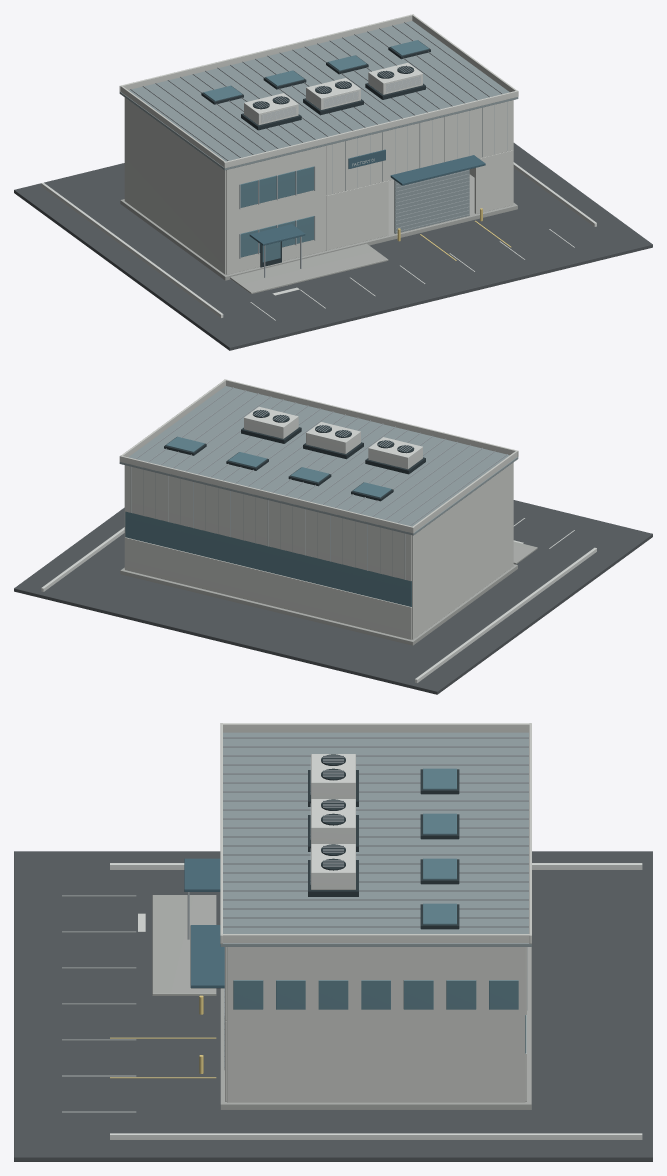
Rendered from factory-building.glb.
The picture shows the model from 3 angles, top to bottom: view 1: azimuth 30°, elevation 25°; view 2: azimuth 150°, elevation 25°; view 3: azimuth 270°, elevation 25°; orthographic projection. The views are drawn at different scales.
Visible parts, largest first — view 1: Site_Asphalt, Roof_Roof_metal, Envelope_Ivory_panels, FixedWalls_Ivory_panels, Roof_Ivory_panels, Site_Concrete, Roof_Brushed_aluminium, Envelope_Roof_metal, Roof_Porcelain, Envelope_Blue_glazing, Roof_Graphite, Envelope_Brushed_aluminium (+3 smaller); view 2: Site_Asphalt, FixedWalls_Ivory_panels, Roof_Roof_metal, FixedWalls_Blue_glazing, Roof_Ivory_panels, Roof_Brushed_aluminium, Roof_Porcelain, Site_Concrete, Roof_Graphite, Site_Porcelain, Roof_Blue_glazing, FixedWalls_Brushed_aluminium; view 3: Site_Asphalt, Roof_Roof_metal, Envelope_Ivory_panels, Roof_Brushed_aluminium, Site_Concrete, Roof_Ivory_panels, Envelope_Blue_glazing, Site_Porcelain, Roof_Porcelain, Roof_Graphite, Envelope_Indigo, Roof_Blue_glazing.
Part boxes in pixels (box(x1,y1,x2,y2)): Site_Asphalt: box(14, 143, 652, 350); Roof_Roof_metal: box(119, 21, 518, 170); Envelope_Ivory_panels: box(226, 100, 513, 274); FixedWalls_Ivory_panels: box(124, 97, 226, 274); Roof_Ivory_panels: box(119, 14, 518, 168); Site_Concrete: box(120, 174, 517, 294); Roof_Brushed_aluminium: box(130, 22, 502, 160); Envelope_Roof_metal: box(394, 169, 469, 233); Roof_Porcelain: box(244, 62, 422, 125); Envelope_Blue_glazing: box(240, 166, 313, 262); Roof_Graphite: box(201, 40, 430, 130); Envelope_Brushed_aluminium: box(239, 102, 507, 277); Site_Asphalt: box(14, 500, 652, 694); FixedWalls_Ivory_panels: box(125, 462, 513, 639); Roof_Roof_metal: box(119, 386, 518, 535); FixedWalls_Blue_glazing: box(125, 511, 411, 606); Roof_Ivory_panels: box(119, 379, 518, 533); Roof_Brushed_aluminium: box(135, 387, 507, 525); Roof_Porcelain: box(244, 406, 422, 469); Site_Concrete: box(120, 541, 537, 645); Roof_Graphite: box(164, 410, 425, 501); Site_Porcelain: box(41, 518, 596, 682); Roof_Blue_glazing: box(166, 436, 391, 497); FixedWalls_Brushed_aluminium: box(130, 467, 405, 579); Site_Asphalt: box(14, 851, 652, 1161); Roof_Roof_metal: box(220, 732, 531, 946); Envelope_Ivory_panels: box(225, 947, 525, 1102); Roof_Brushed_aluminium: box(223, 737, 528, 927); Site_Concrete: box(152, 895, 531, 1109); Roof_Ivory_panels: box(220, 723, 531, 943); Envelope_Blue_glazing: box(233, 980, 518, 1009); Site_Porcelain: box(62, 863, 642, 1139); Roof_Porcelain: box(311, 754, 355, 889); Roof_Graphite: box(308, 754, 459, 929); Envelope_Indigo: box(184, 858, 224, 988); Roof_Blue_glazing: box(423, 768, 456, 924).
Size of the model in its own units: 34 by 10.25 by 30.
